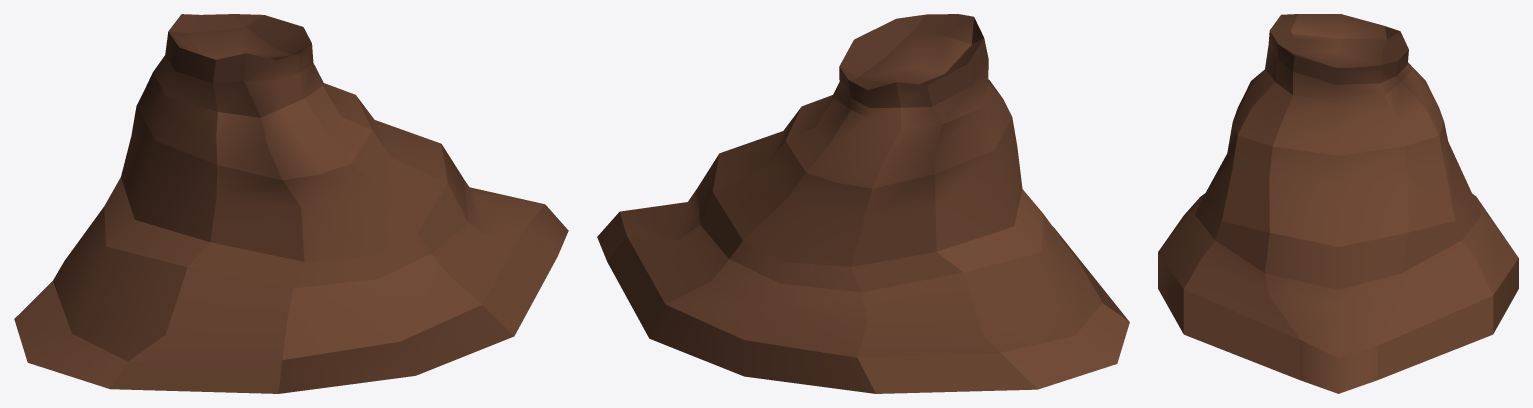
Rendered from volcano_03.fbx.
3 renders of one model, left to right at view 1: azimuth 30°, elevation 25°; view 2: azimuth 150°, elevation 25°; view 3: azimuth 270°, elevation 25°, orthographic. The views are drawn at different scales.
Visible parts, largest first — view 1: vulcano_03; view 2: vulcano_03; view 3: vulcano_03.
Boxes of the visible parts, box(x1,y1,x2,y2) form: vulcano_03: box(14, 14, 568, 393); vulcano_03: box(597, 14, 1129, 393); vulcano_03: box(1158, 14, 1518, 393).
Bounding box in the file's own units: 6250 × 3206 × 4421.
